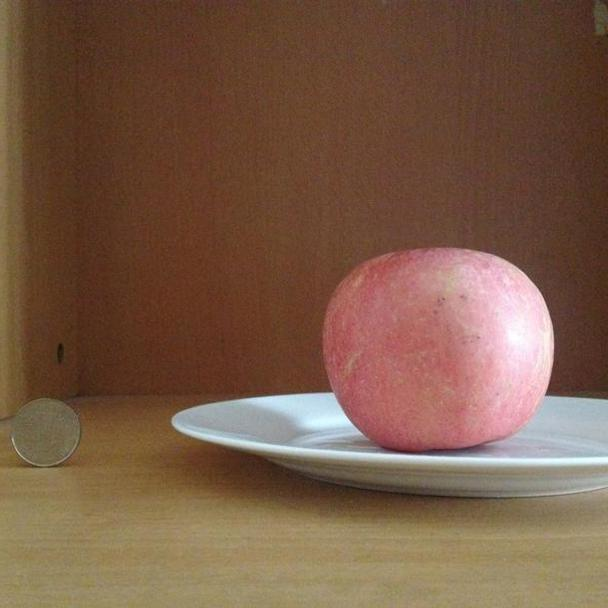apple: (320, 244, 560, 453)
